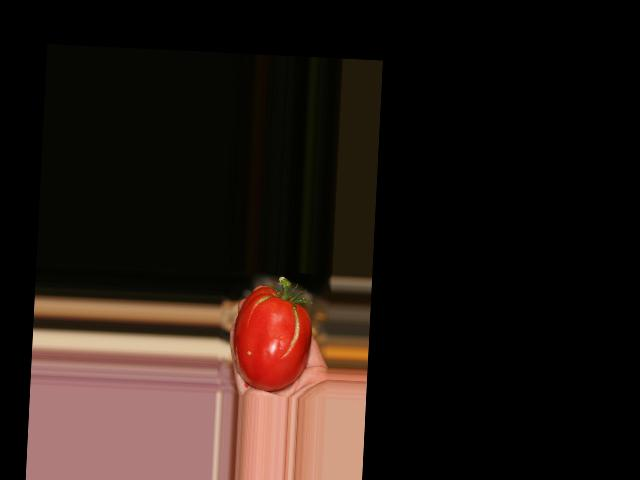tomato: (230, 285, 312, 393)
